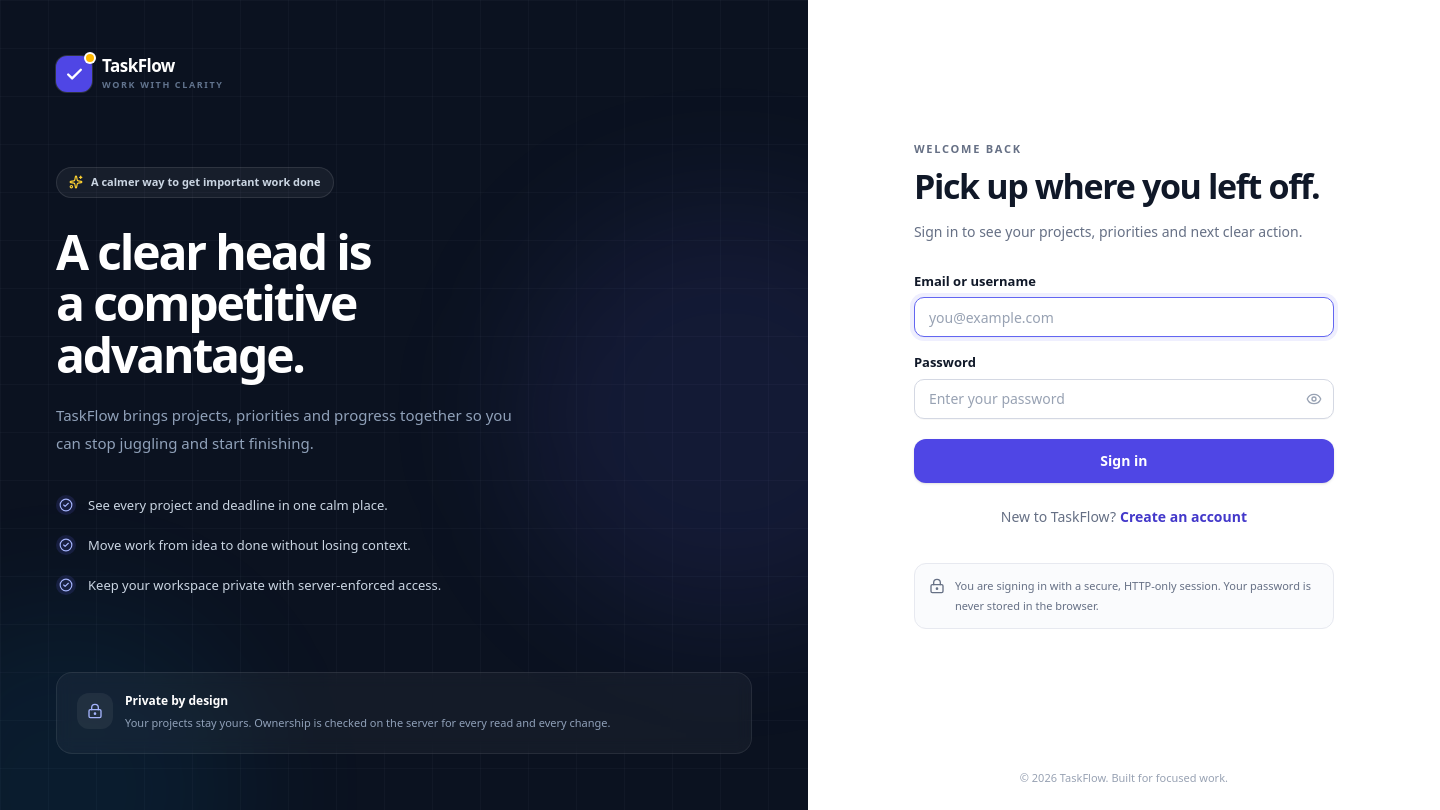
Test: LoginPage › shows client-side validation instead of submitting empty credentials
Click the button "Sign in": (1124, 461) [914, 439, 1334, 483]
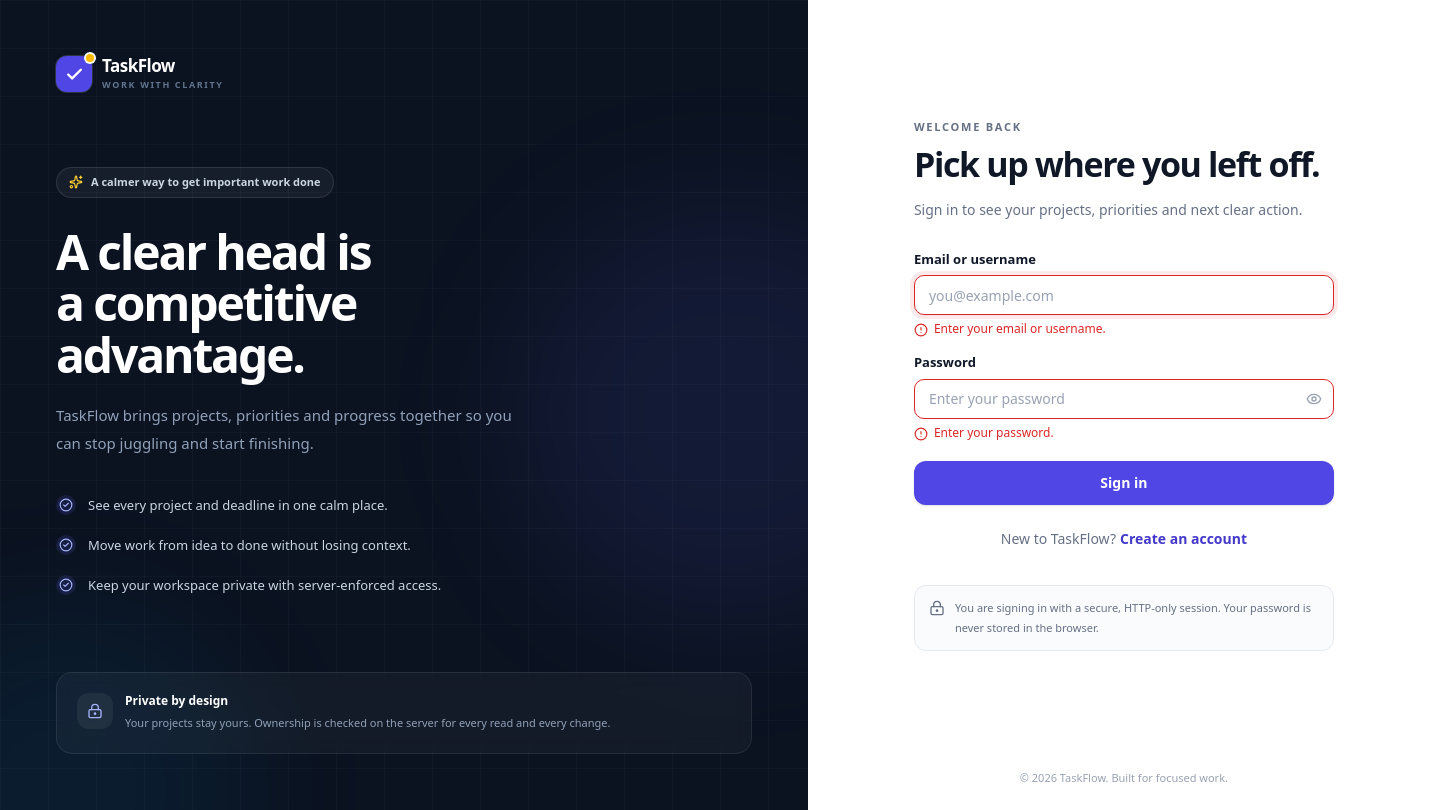
Expected: the text "Enter your email or username." is shown, [914, 320, 1106, 337]
Expected: the text "Enter your password." is shown, [914, 424, 1054, 441]
